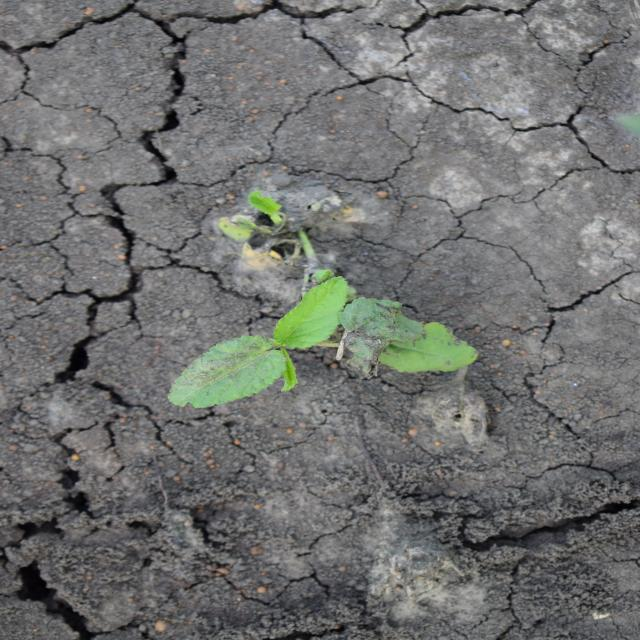PricklySida: (166, 190, 481, 410)
